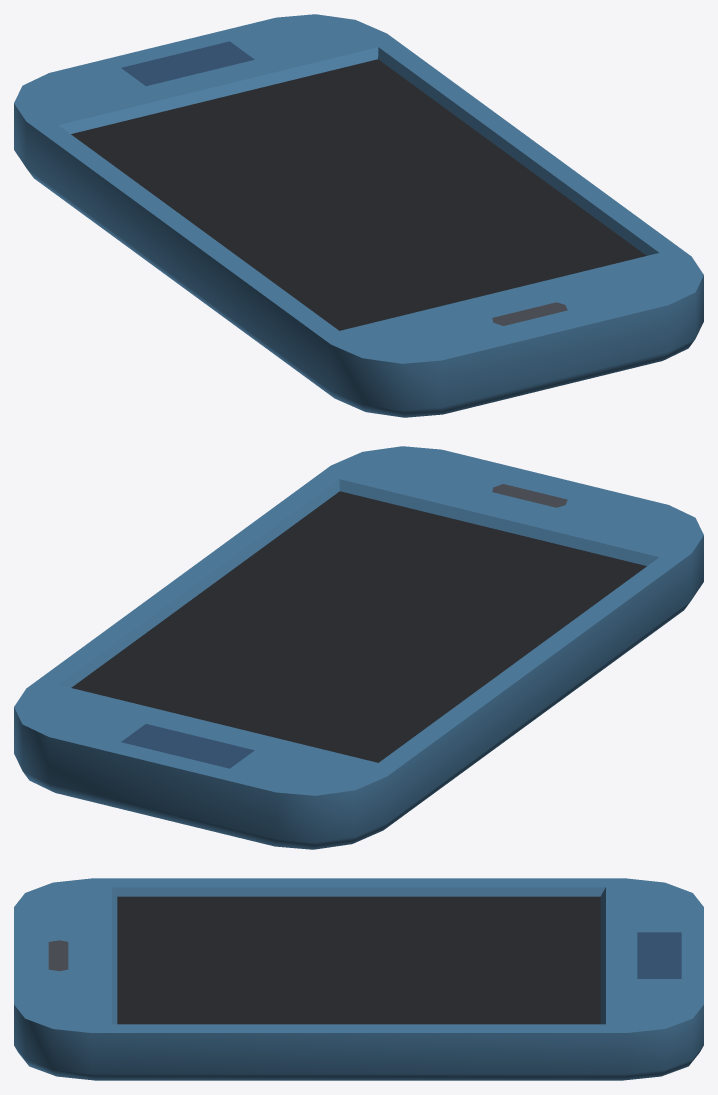
The model's file is NF_Phone_05.fbx.
3 renders of one model, top to bottom at view 1: azimuth 30°, elevation 25°; view 2: azimuth 150°, elevation 25°; view 3: azimuth 270°, elevation 25°, orthographic. The views are drawn at different scales.
Visible parts, largest first — view 1: NF_Phone_05; view 2: NF_Phone_05; view 3: NF_Phone_05.
Part boxes in pixels (x1,y1,x2,y2): NF_Phone_05: [14, 14, 703, 417]; NF_Phone_05: [14, 446, 703, 849]; NF_Phone_05: [14, 878, 703, 1080].
Size of the model in its own units: 0.1025 by 0.0171 by 0.1932.
